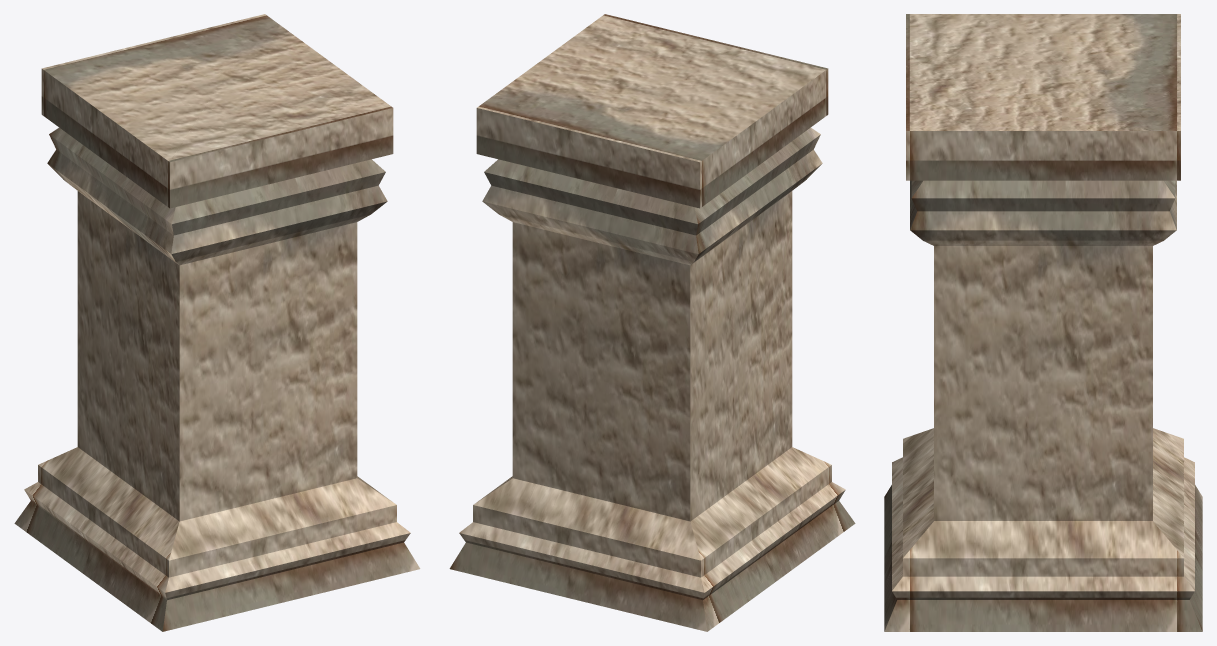
Rendered from altarsmall.FBX.
3 views of the same model, side by side, from view 1: azimuth 30°, elevation 25°; view 2: azimuth 150°, elevation 25°; view 3: azimuth 270°, elevation 25° (orthographic). The views are drawn at different scales.
Visible parts, largest first — view 1: Box001; view 2: Box001; view 3: Box001.
Boxes of the visible parts, bbox=[...] form: Box001: bbox=[14, 14, 420, 631]; Box001: bbox=[449, 14, 855, 631]; Box001: bbox=[884, 14, 1202, 631].
Size of the model in its own units: 7.76 by 13.17 by 7.72.
Materials: 1 (1 with a texture image).
